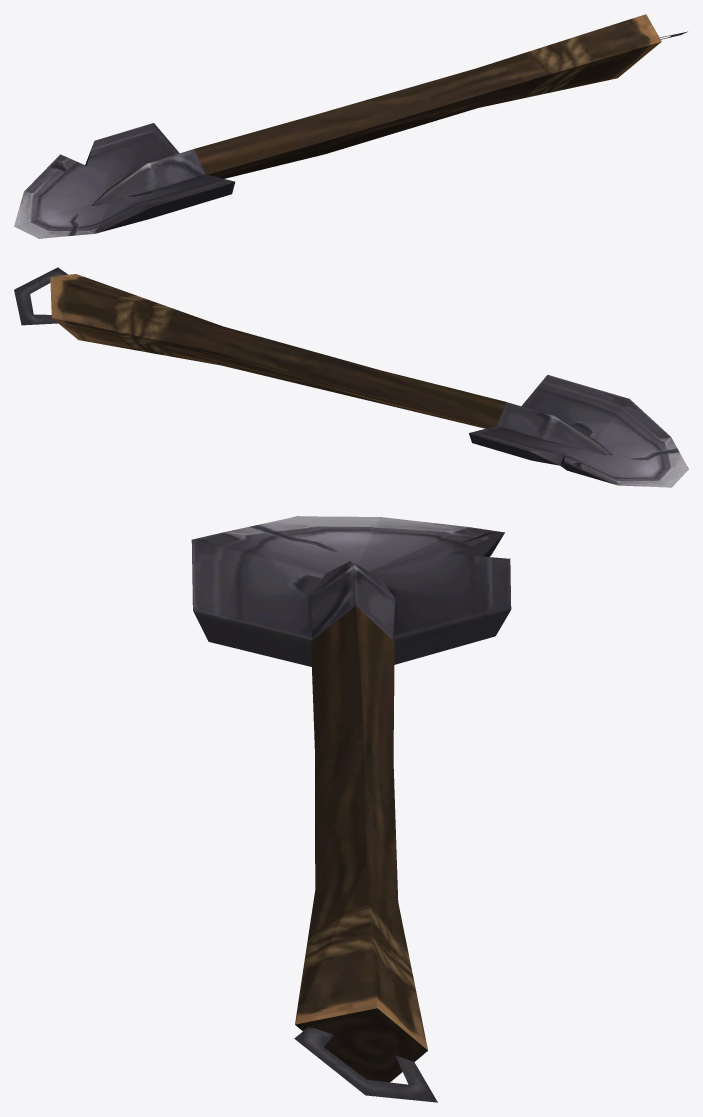
File: lava_shovel_01.fbx
3 renders of one model, top to bottom at view 1: azimuth 30°, elevation 25°; view 2: azimuth 150°, elevation 25°; view 3: azimuth 270°, elevation 25°, orthographic. The views are drawn at different scales.
Parts seen in each view (by area): view 1: obj0.071; view 2: obj0.071; view 3: obj0.071.
Part boxes in pixels (box(x1,y1,x2,y2)): obj0.071: box(14, 14, 687, 238); obj0.071: box(14, 267, 688, 487); obj0.071: box(191, 516, 511, 1102).
Bounding box in the file's own units: 1.99 × 0.1677 × 0.4159.
